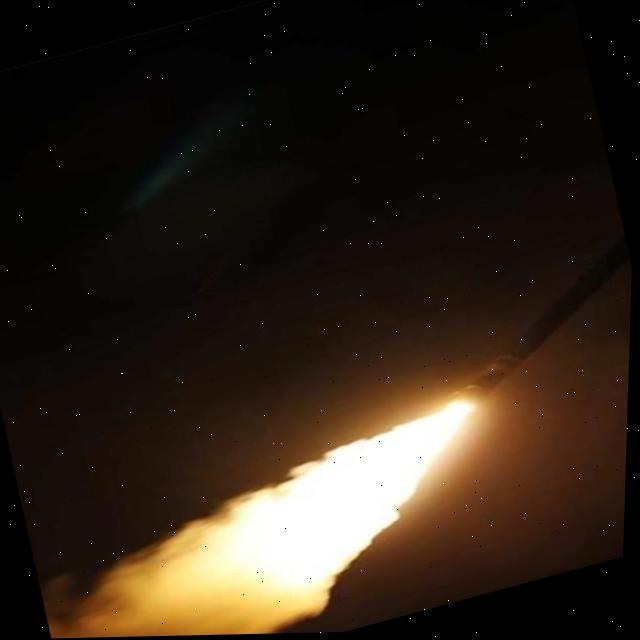missile: (434, 230, 634, 417)
